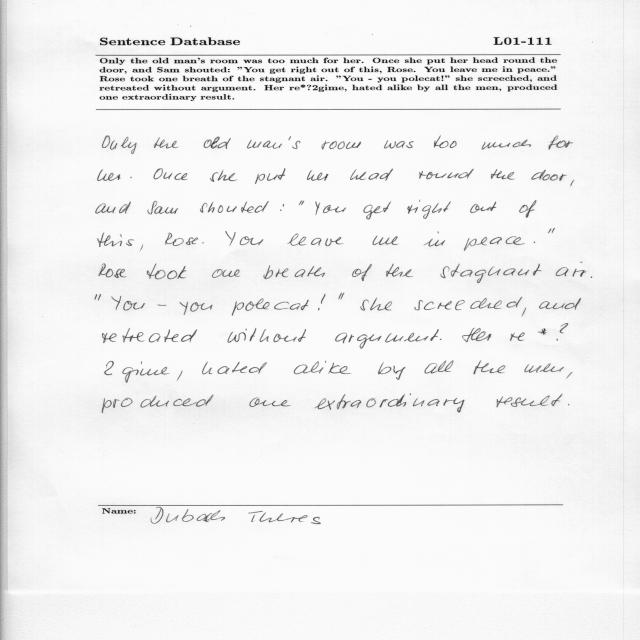word: (315, 394, 465, 413), (335, 329, 439, 349), (102, 395, 214, 413), (441, 264, 542, 283), (105, 361, 170, 383), (103, 328, 197, 343), (414, 297, 522, 310), (232, 298, 309, 316), (227, 328, 306, 343), (510, 323, 568, 341), (464, 236, 525, 251), (497, 394, 563, 407), (407, 200, 451, 219), (200, 201, 269, 213), (263, 266, 325, 279), (202, 362, 267, 374), (287, 234, 344, 247), (294, 361, 351, 374), (247, 136, 301, 149), (147, 264, 186, 280), (103, 136, 137, 154), (225, 231, 263, 246), (419, 169, 474, 179), (98, 233, 134, 248), (350, 169, 393, 181), (111, 296, 145, 311), (539, 298, 581, 310), (482, 140, 531, 150), (378, 362, 405, 380), (363, 202, 391, 219), (556, 262, 587, 277), (96, 201, 131, 214), (255, 169, 285, 184), (315, 201, 346, 215), (165, 233, 198, 246), (180, 302, 213, 315), (250, 397, 292, 407), (360, 298, 392, 311), (474, 361, 506, 374), (462, 328, 491, 342), (147, 201, 178, 214), (524, 363, 564, 373), (531, 170, 567, 181), (99, 264, 127, 278), (153, 169, 188, 180), (425, 361, 454, 374), (322, 141, 362, 150), (204, 136, 231, 149), (386, 264, 413, 277), (352, 264, 372, 281), (549, 136, 573, 150), (210, 170, 237, 182), (519, 200, 537, 218), (424, 232, 445, 247), (434, 136, 457, 149), (470, 202, 496, 213), (98, 169, 121, 181), (154, 137, 179, 148), (384, 140, 414, 149), (491, 169, 515, 180), (212, 269, 240, 278), (373, 236, 399, 245), (307, 170, 328, 181), (318, 294, 326, 311), (177, 371, 182, 381), (95, 294, 101, 301), (339, 293, 345, 299), (522, 307, 526, 316), (567, 372, 573, 378), (548, 228, 555, 233), (280, 204, 284, 211), (299, 201, 304, 206), (570, 180, 574, 186), (140, 244, 143, 251), (157, 305, 167, 306), (130, 177, 132, 179), (202, 242, 204, 244), (440, 338, 442, 340), (534, 241, 535, 243), (591, 276, 592, 278), (568, 404, 569, 405)
